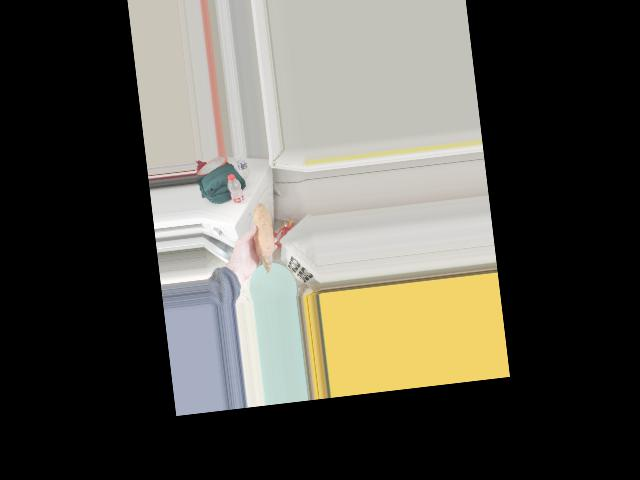sweet_potato: (252, 212, 273, 265)
